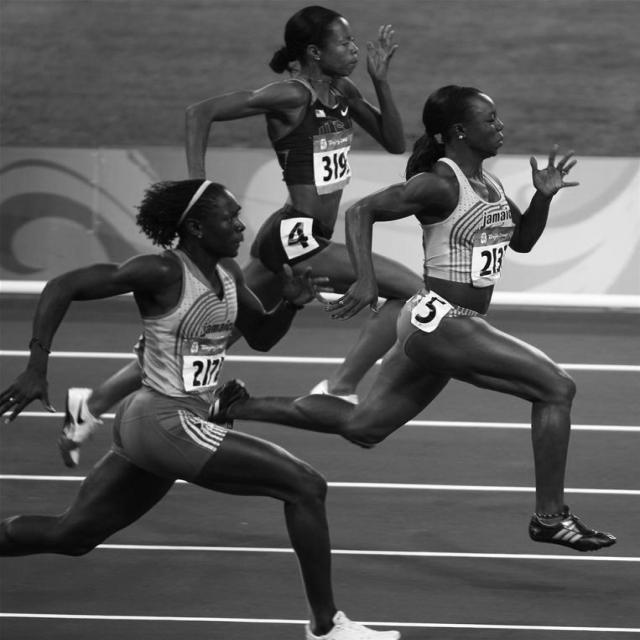person: (214, 71, 596, 542), (30, 172, 378, 639), (184, 6, 408, 328)
